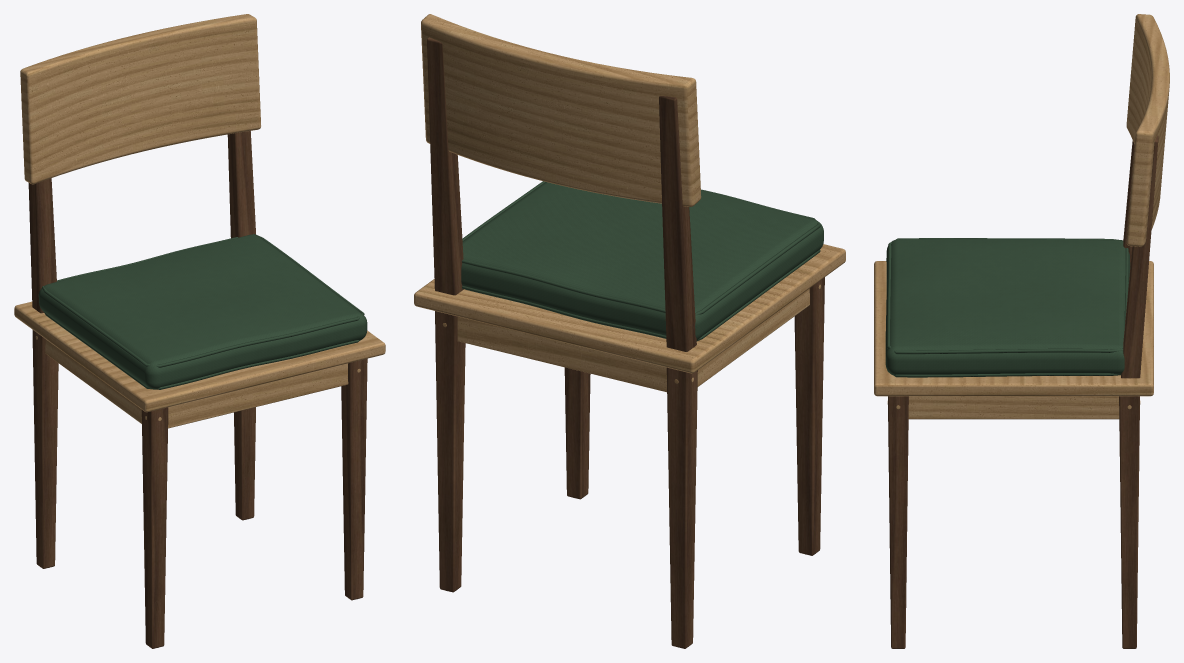
Rendered from noi-that-ghe-an.glb.
3 views of the same model, side by side, from view 1: azimuth 30°, elevation 25°; view 2: azimuth 150°, elevation 25°; view 3: azimuth 270°, elevation 25° (orthographic). The views are drawn at different scales.
Visible parts, largest first — view 1: Chair_pad, Chair_backrail, Chair_legs, Chair_seat, Chair_frame, Chair_posts; view 2: Chair_pad, Chair_backrail, Chair_legs, Chair_posts, Chair_seat, Chair_frame; view 3: Chair_pad, Chair_legs, Chair_seat, Chair_backrail, Chair_frame, Chair_posts.
Part boxes in pixels (x1,y1,x2,y2): Chair_pad: (38,234,367,389); Chair_backrail: (20,14,260,184); Chair_legs: (32,330,367,648); Chair_seat: (14,301,385,412); Chair_frame: (45,339,348,428); Chair_posts: (28,131,255,313); Chair_pad: (461,181,823,341); Chair_backrail: (421,14,701,206); Chair_legs: (435,277,824,648); Chair_posts: (427,37,696,351); Chair_seat: (414,244,845,373); Chair_frame: (457,288,809,392); Chair_pad: (885,238,1130,377); Chair_legs: (888,396,1139,648); Chair_seat: (874,261,1153,396); Chair_backrail: (1126,14,1169,246); Chair_frame: (908,396,1119,419); Chair_posts: (1121,135,1158,378).
Size of the model in its own units: 0.46 by 0.8999 by 0.462.
Materials: 4 (4 with a texture image).
